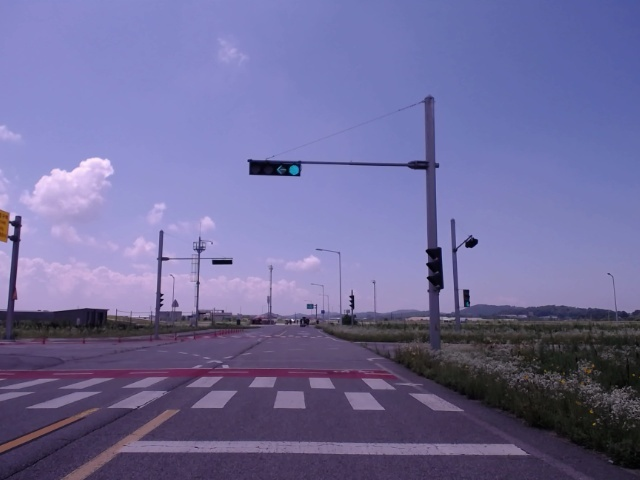all_green_4: (247, 161, 302, 178)
